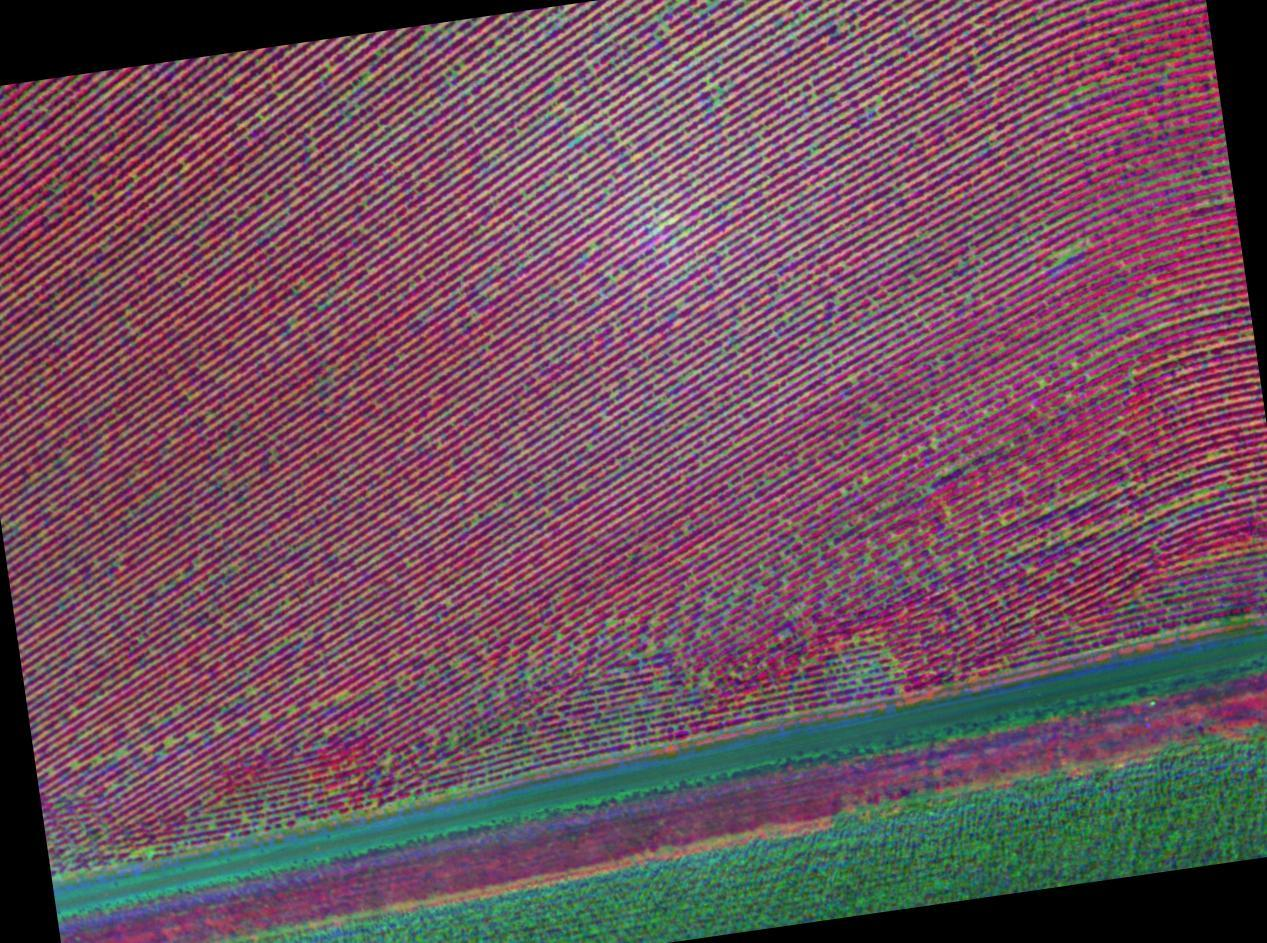dc: (812, 92, 815, 97), (876, 97, 879, 101), (679, 304, 682, 307), (196, 566, 199, 569), (197, 586, 200, 589), (615, 328, 618, 330)
